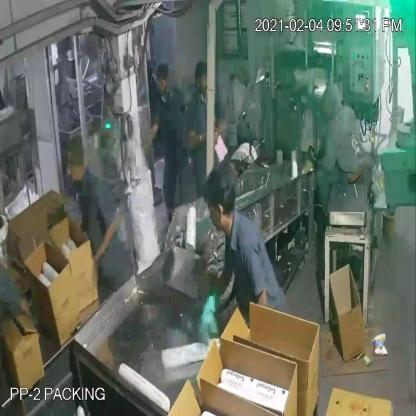glove: (193, 286, 224, 344)
no_glove: (85, 207, 123, 270), (185, 119, 218, 154), (12, 278, 32, 334), (140, 113, 164, 157)
